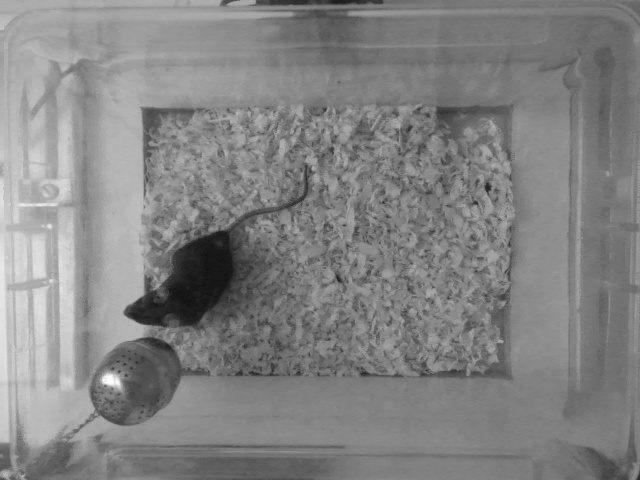mice: (123, 158, 311, 333)
